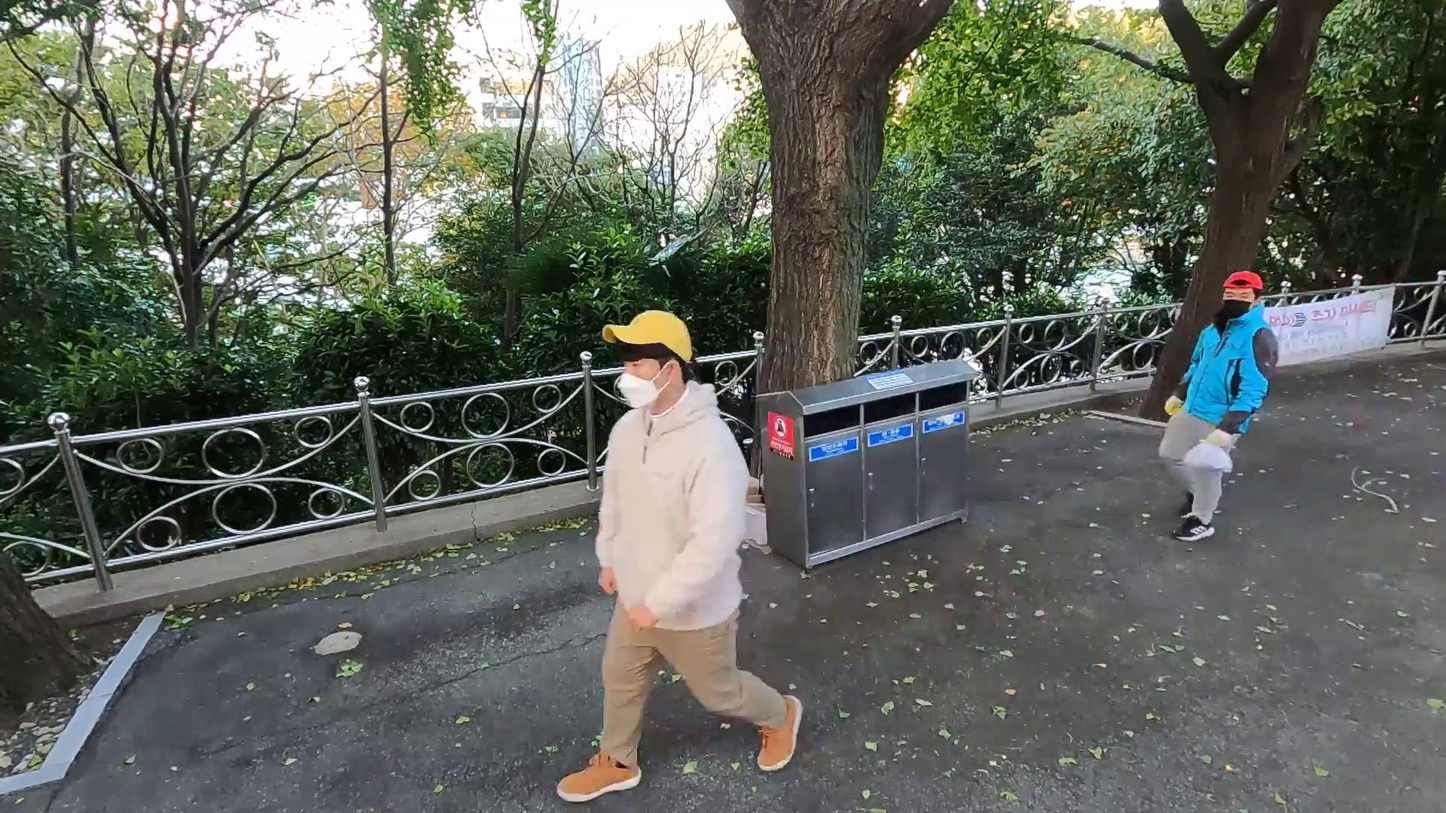person: (546, 300, 810, 803), (1154, 259, 1287, 548)
trash: (1178, 436, 1237, 481)
